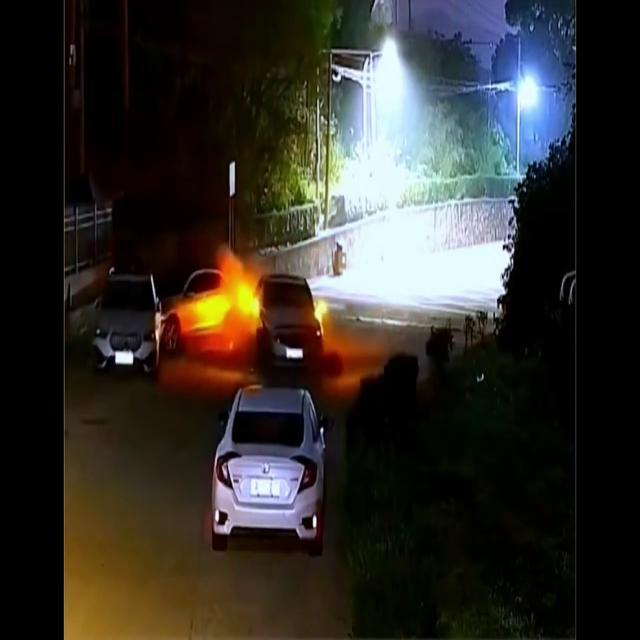multiple_accident: (115, 232, 356, 406)
